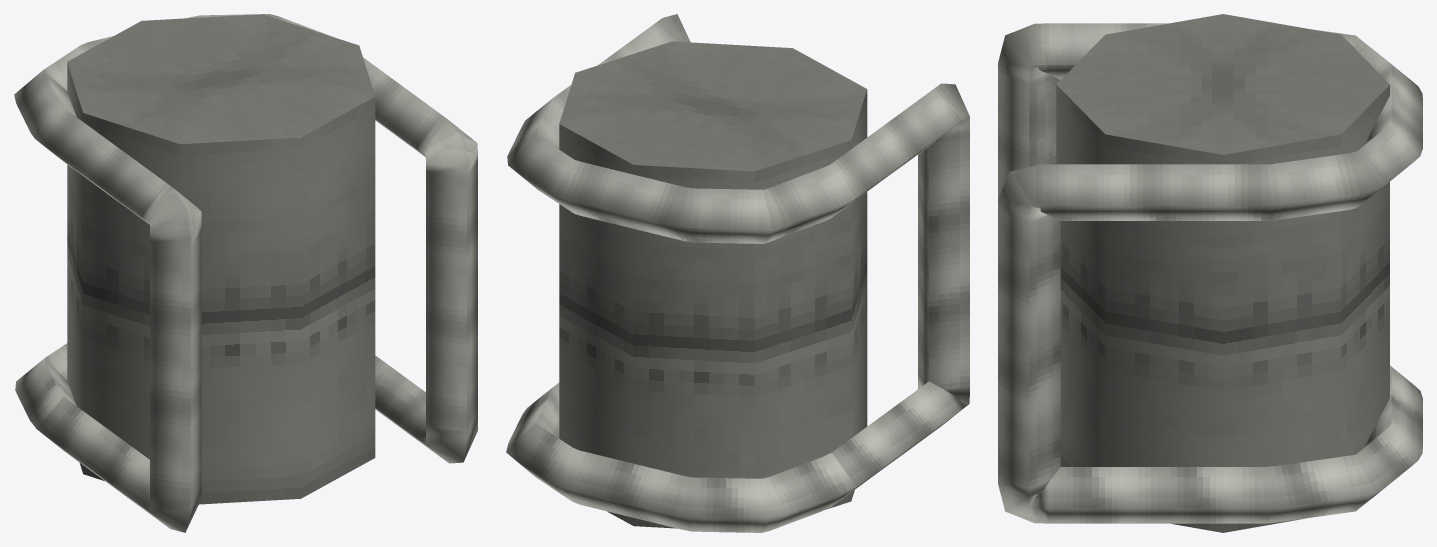
File: Pipe2.glb
3 renders of one model, left to right at view 1: azimuth 30°, elevation 25°; view 2: azimuth 150°, elevation 25°; view 3: azimuth 270°, elevation 25°, orthographic. The views are drawn at different scales.
Visible parts, largest first — view 1: Cylinder.018; view 2: Cylinder.018; view 3: Cylinder.018.
Boxes of the visible parts, box(x1,y1,x2,y2) form: Cylinder.018: box(14, 14, 477, 532); Cylinder.018: box(506, 14, 969, 532); Cylinder.018: box(998, 14, 1422, 532).
Bounding box in the file's own units: 3.8 × 4 × 4.07.
2 materials, 2 textured.
